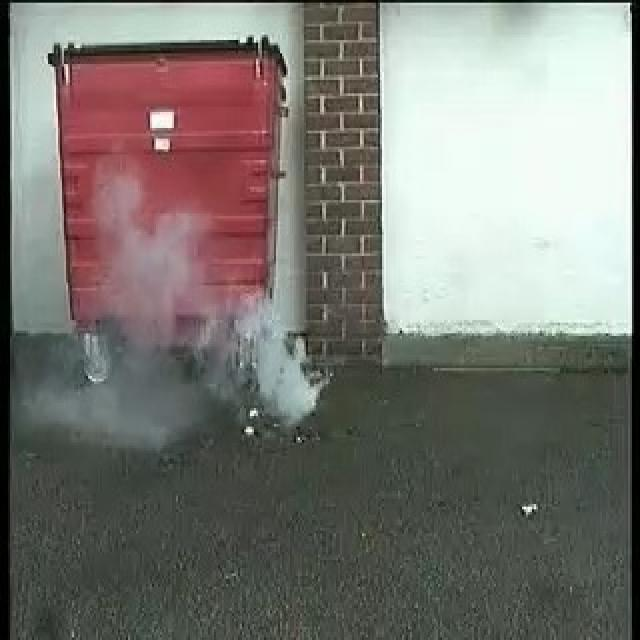smoke: (180, 276, 322, 425)
